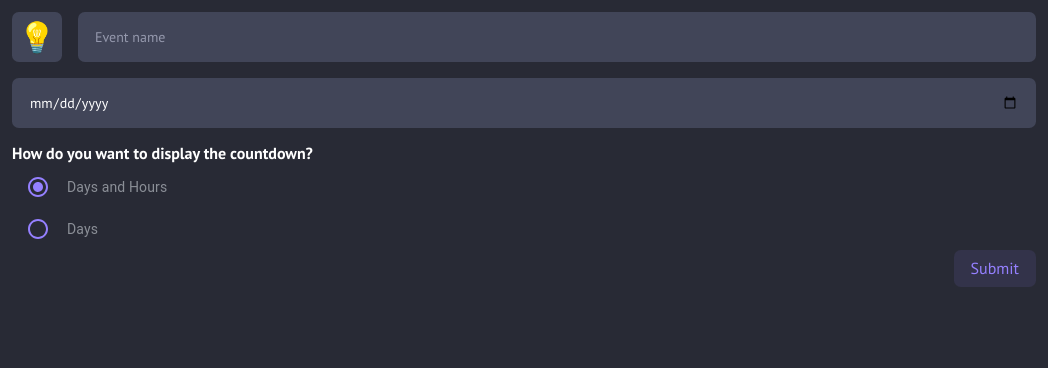
it: Countdown Form › Countdown Form - Handlers › displays validation error when clicking on the submit button with empty event name
The image size is (1048, 368).
// Trigger Click
Click the button "Submit": (995, 269) [954,250,1036,287]
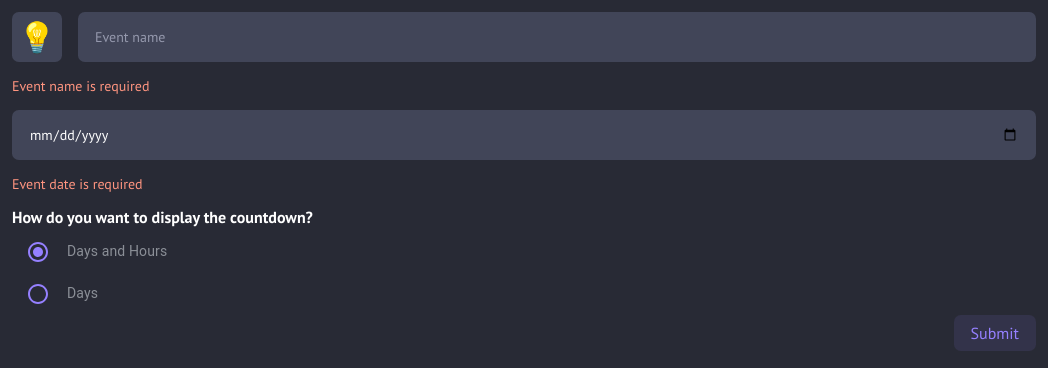
Check: the text "Event name is required" is shown, box [12,77,150,95]
